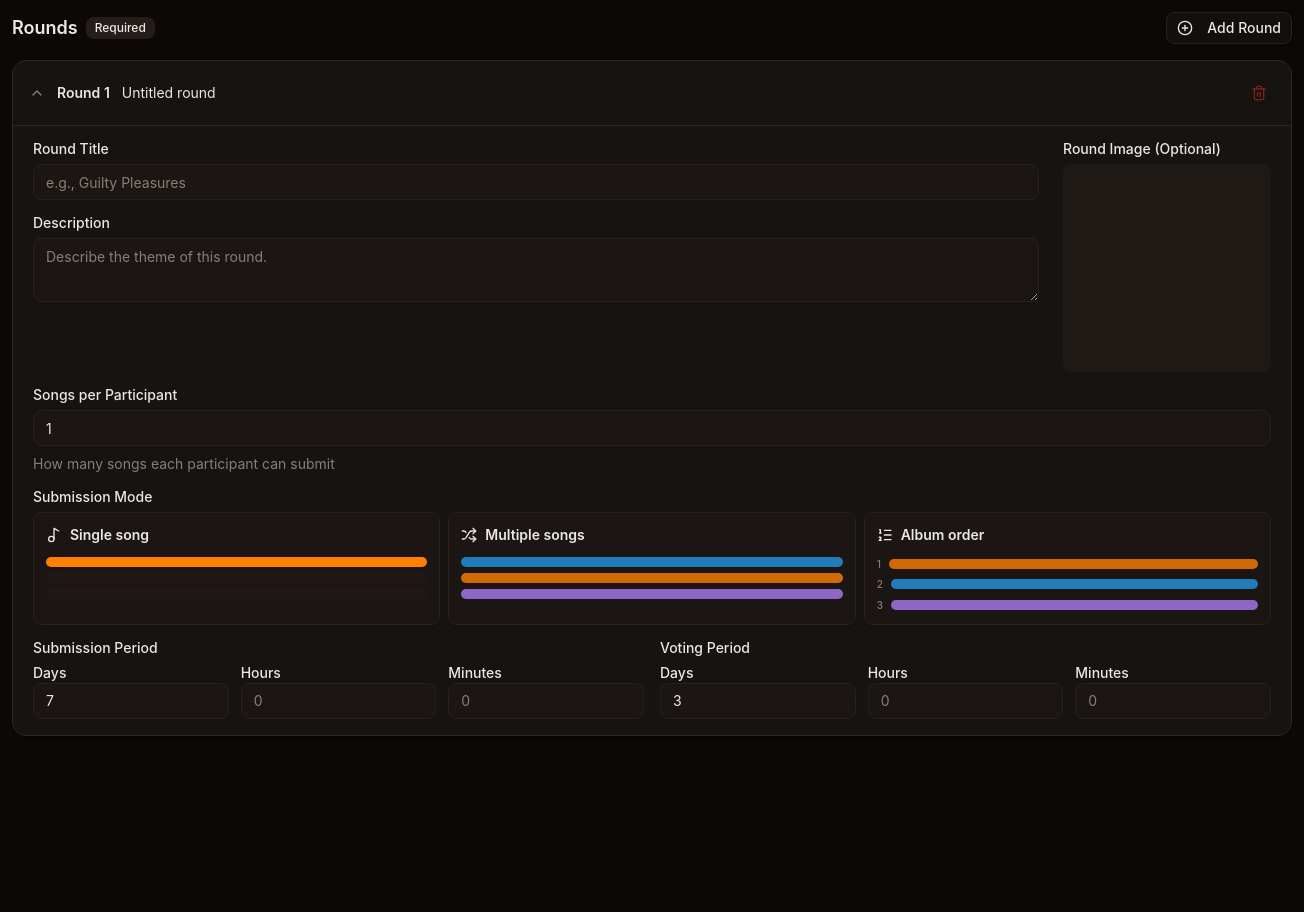
Test case: LeagueRoundsSection › keeps song count and submission mode in sync
Replace the text in the number field labelled "Songs per Participant" with "2" at (652, 428), box [33,410,1271,446]
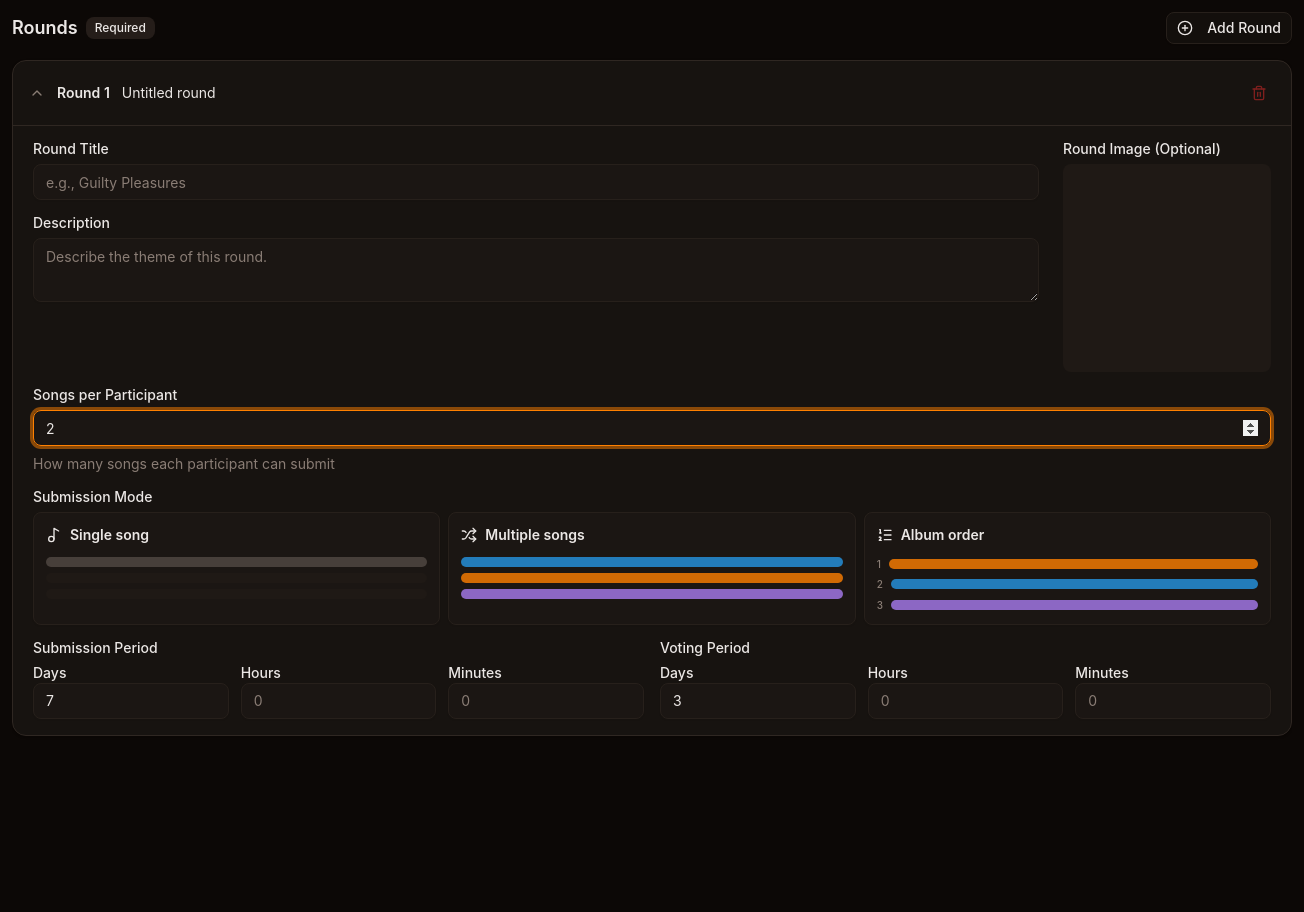
Click the button "Single song" at (237, 568), box [33,512,440,625]
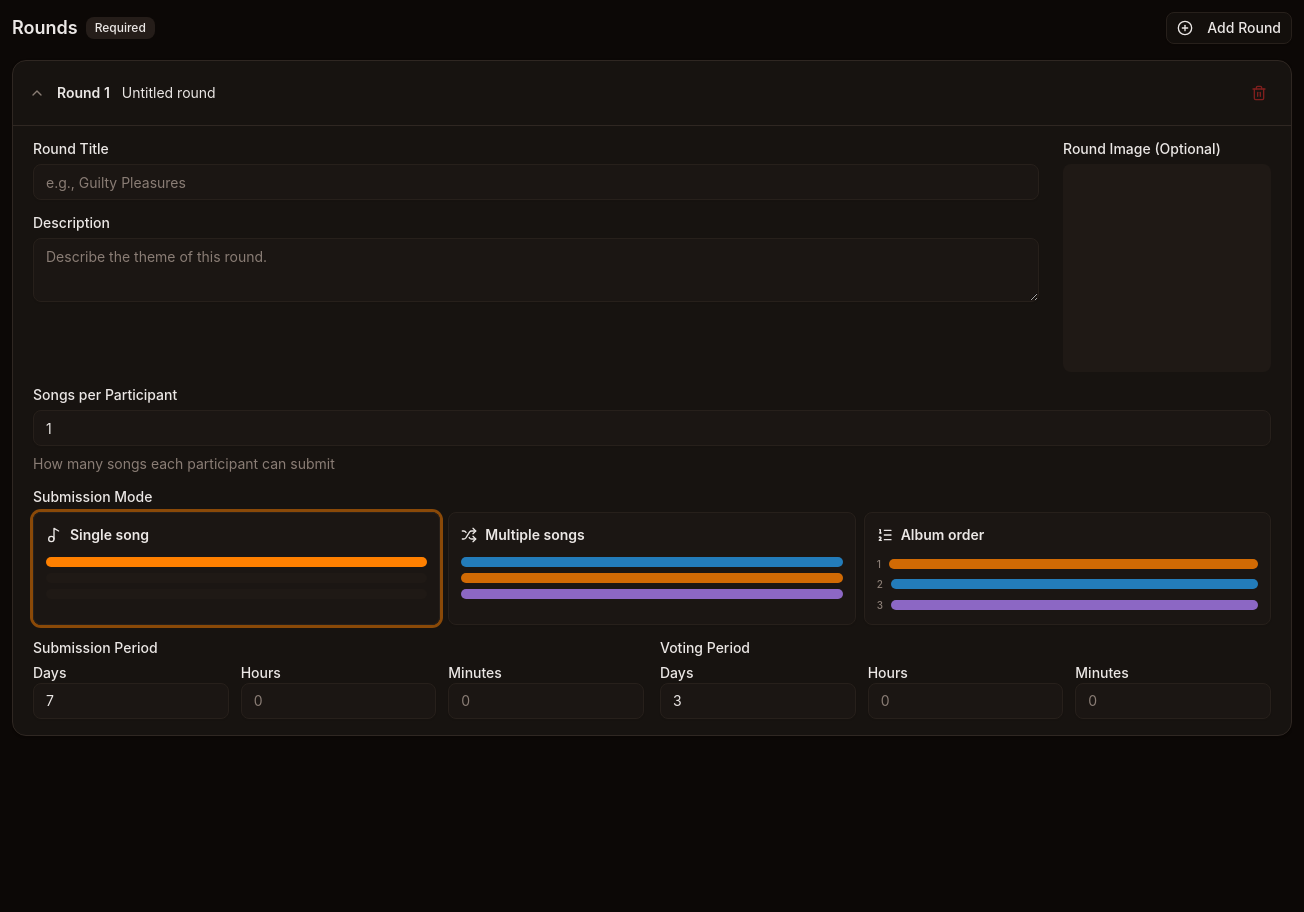
Expected: the number field labelled "Songs per Participant" holds "1", [33,410,1271,446]
